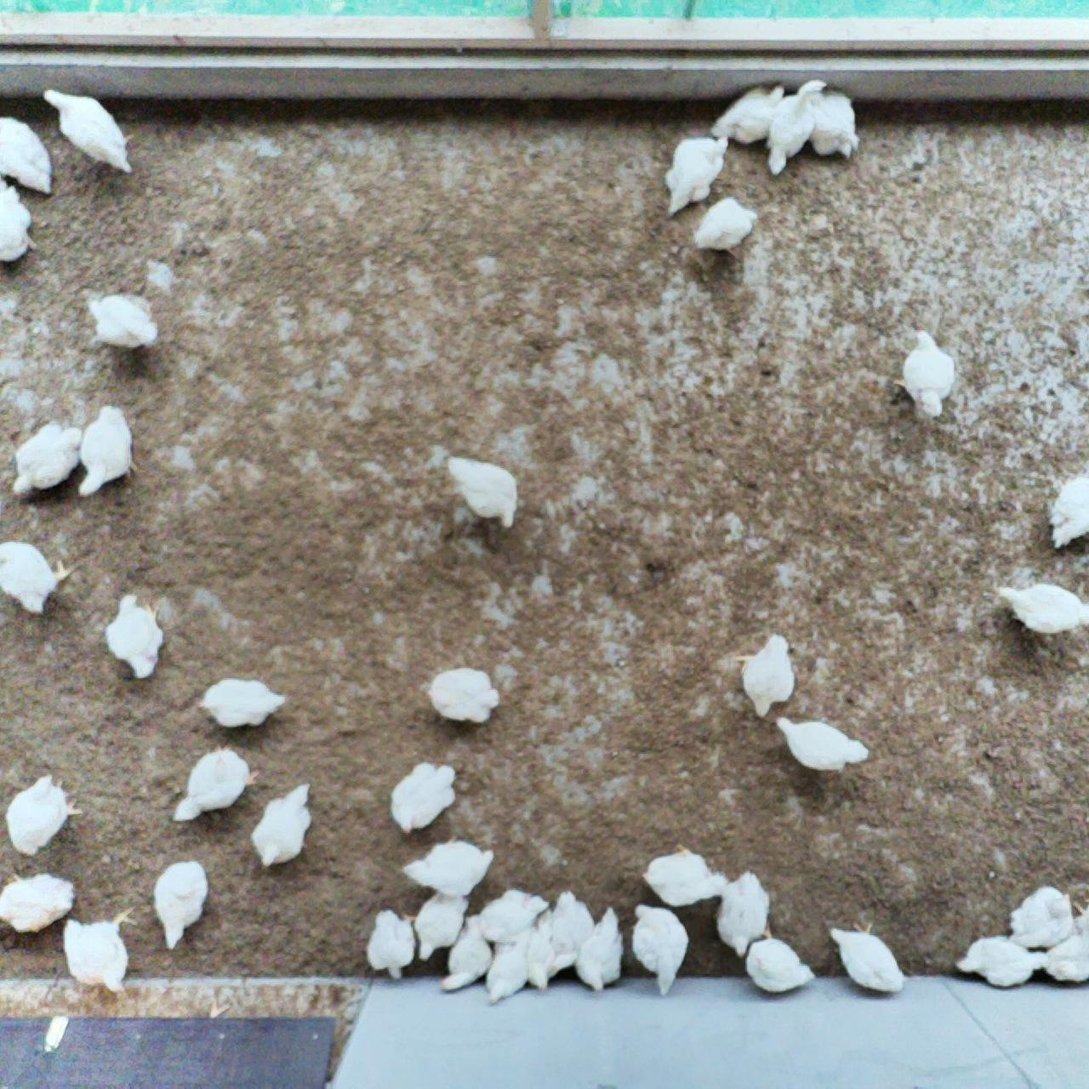chicken: (39, 85, 136, 178), (170, 739, 262, 825), (61, 904, 143, 996), (4, 772, 86, 858), (71, 403, 141, 502), (772, 712, 872, 778), (890, 328, 958, 425), (637, 840, 731, 909), (825, 917, 906, 997), (10, 419, 84, 504), (663, 133, 734, 220), (384, 758, 460, 839), (628, 899, 690, 998), (250, 779, 318, 869), (730, 631, 798, 720), (105, 589, 168, 685), (765, 77, 824, 179), (0, 540, 76, 619), (400, 835, 495, 898), (445, 452, 520, 530), (714, 867, 774, 962), (743, 922, 819, 996), (954, 932, 1049, 990), (707, 81, 791, 146), (193, 676, 288, 733), (152, 858, 210, 951), (0, 869, 78, 937), (994, 582, 1089, 637), (438, 908, 495, 998), (1005, 881, 1077, 951), (475, 884, 553, 947), (691, 194, 760, 264), (84, 291, 163, 352), (405, 887, 471, 960), (573, 905, 627, 994), (0, 111, 55, 198), (423, 665, 502, 725), (545, 889, 595, 983), (364, 905, 420, 981), (482, 923, 532, 1007), (808, 89, 863, 159), (0, 174, 40, 266), (1047, 469, 1089, 553), (523, 907, 560, 993), (1044, 928, 1089, 985)
